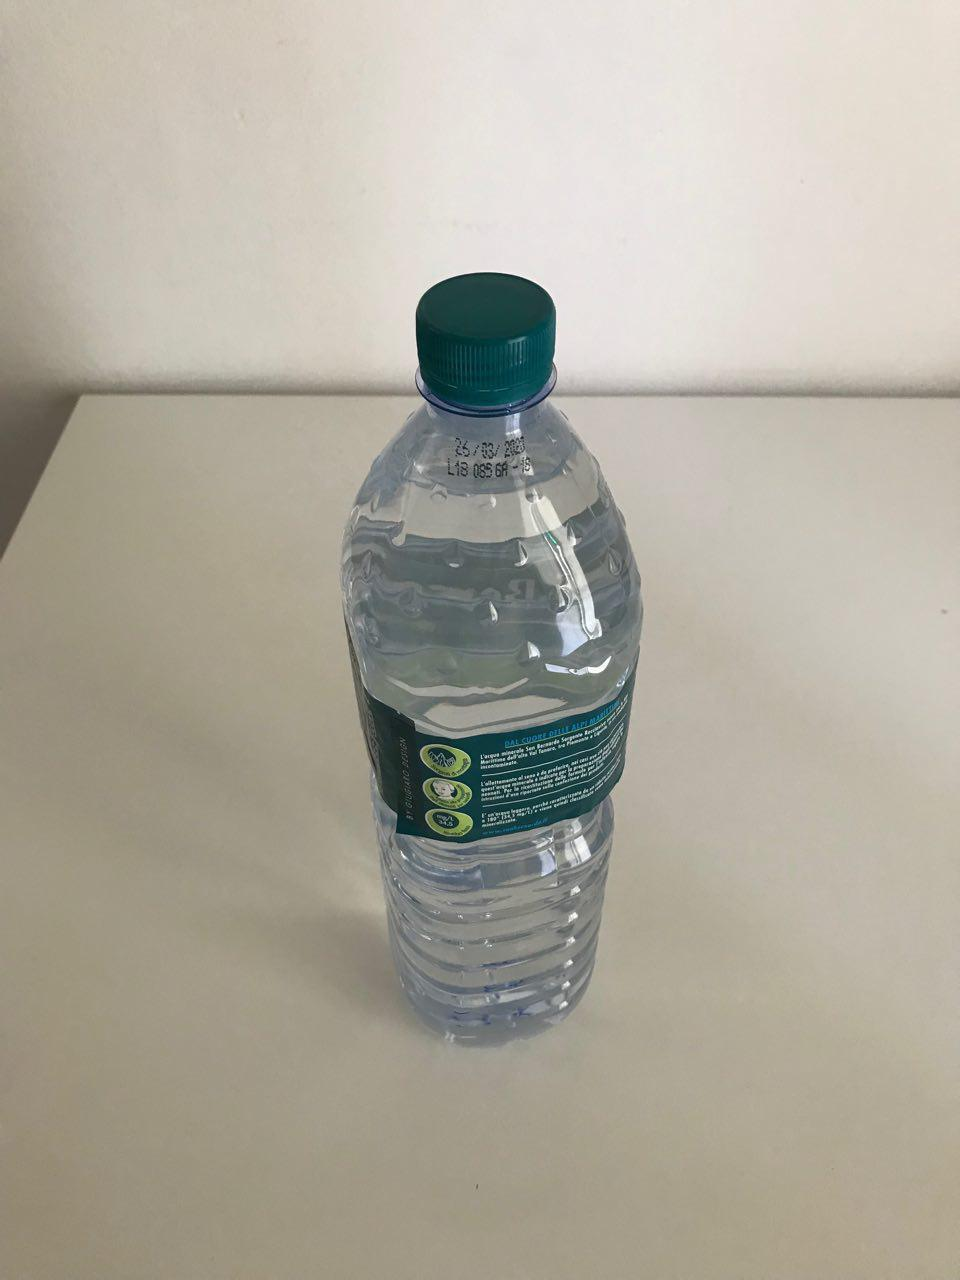san_bernardo: (339, 271, 644, 1050)
